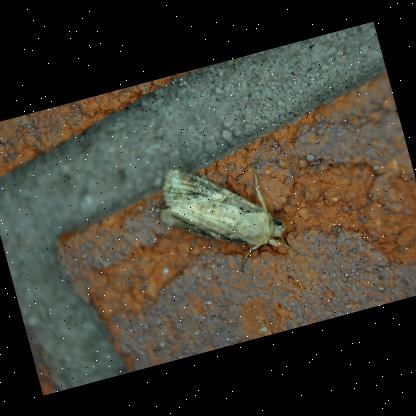Fall Armyworm Moth: (146, 140, 308, 307)
